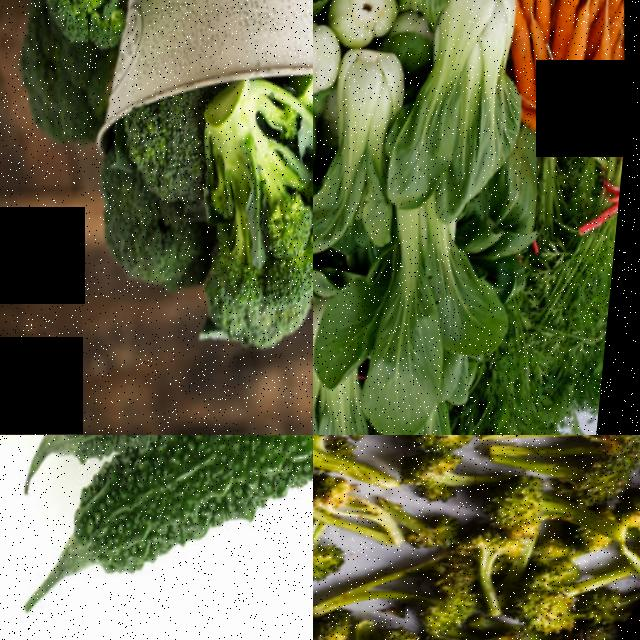bitter gourd: (28, 435, 313, 577)
bok choy: (398, 0, 534, 200), (386, 203, 501, 381), (313, 45, 408, 242), (313, 298, 385, 435)
broccoli: (191, 66, 313, 321), (454, 467, 605, 551), (500, 554, 640, 637), (494, 435, 640, 488), (313, 435, 388, 487), (313, 513, 352, 580)
carrot: (572, 0, 636, 147), (495, 0, 554, 126), (547, 0, 594, 73), (539, 110, 593, 159)
